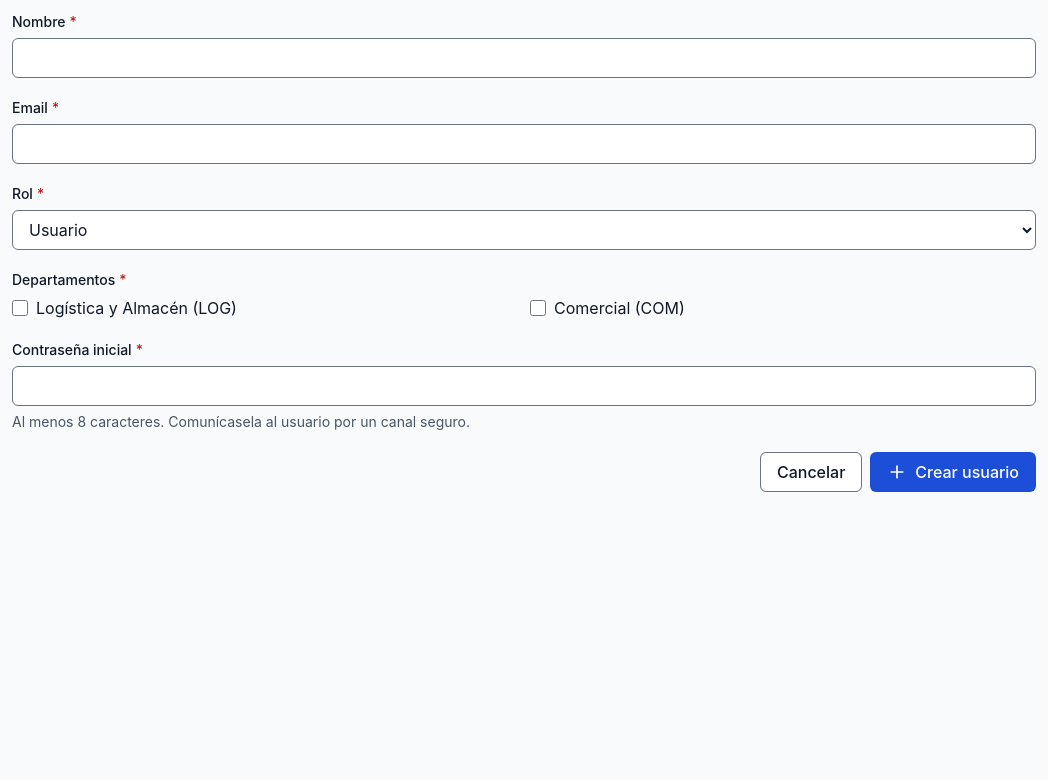
UserForm · alta › CA-02.19: vacío no se envía y cada campo muestra su error de shared; el foco va al primero
Click the button "Crear usuario" at (953, 472), box x1=870 y1=452 x2=1036 y2=492
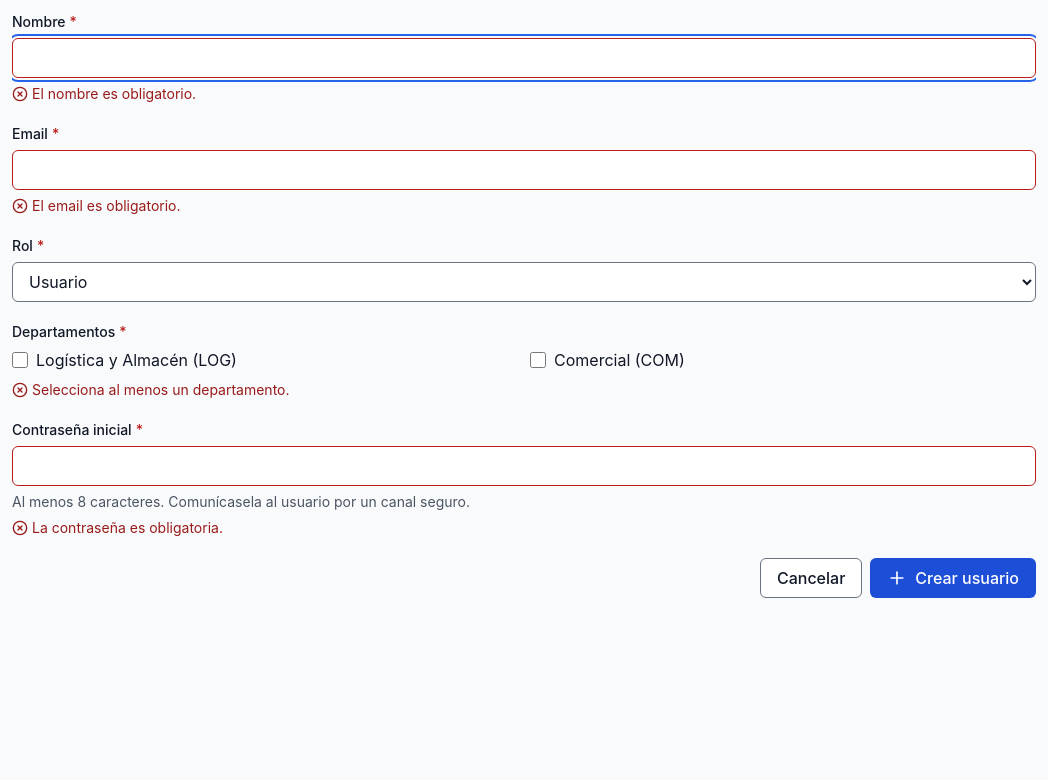
Check: the text "La contraseña es obligatoria." is shown, box x1=32 y1=518 x2=223 y2=538
